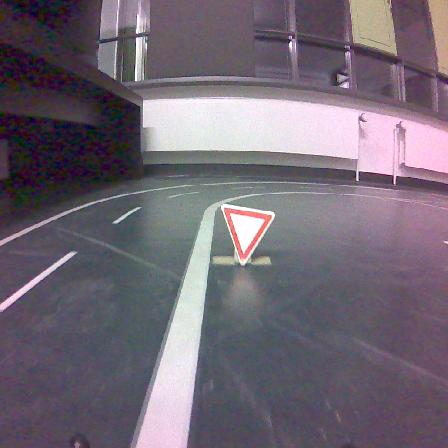GIVE_WAY: (221, 204, 274, 265)
